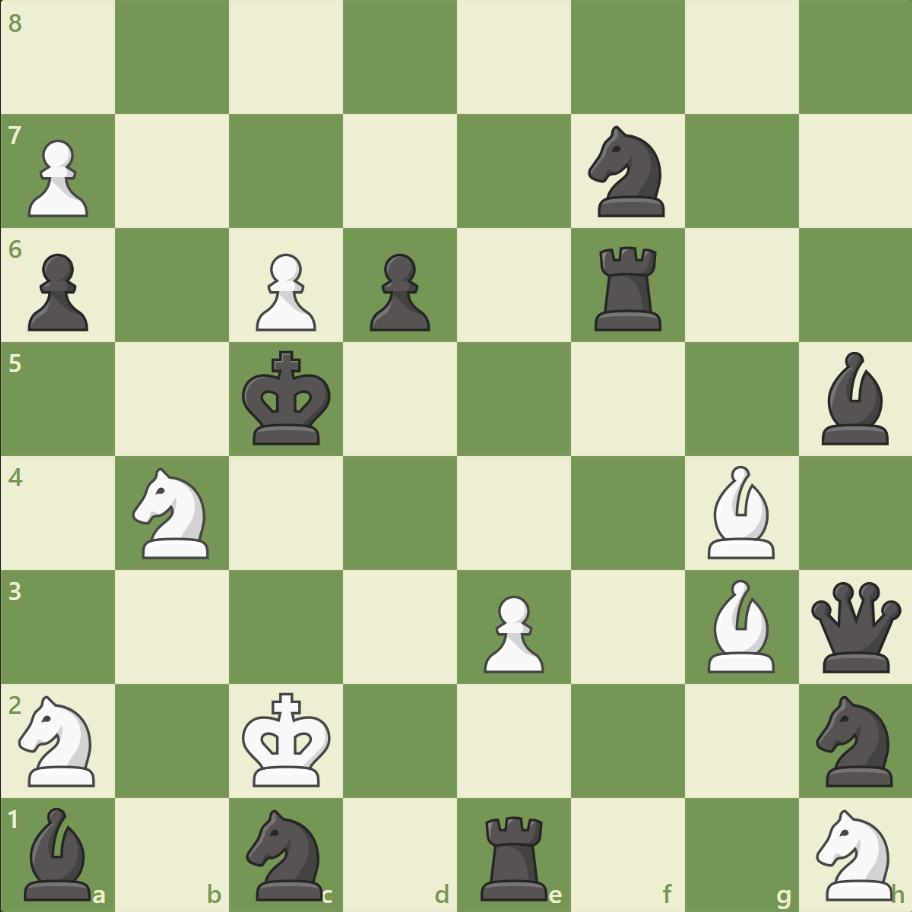B: (698, 460, 782, 563), (698, 574, 782, 676)
K: (238, 685, 338, 793)
N: (124, 461, 222, 564), (11, 688, 108, 791), (806, 802, 903, 904)
P: (20, 132, 95, 223), (247, 246, 322, 337), (474, 586, 549, 677)
b: (17, 801, 101, 904), (812, 347, 896, 449)
k: (238, 344, 338, 452)
n: (806, 688, 903, 791), (579, 121, 676, 223), (238, 802, 335, 904)
p: (20, 246, 95, 337), (361, 246, 435, 337)
q: (805, 576, 904, 676)
r: (473, 806, 556, 904), (587, 239, 670, 336)
